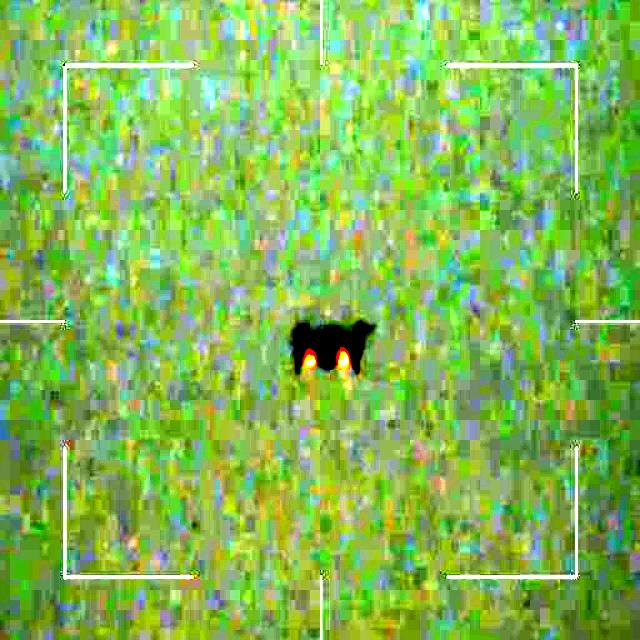bird: (291, 319, 378, 375)
